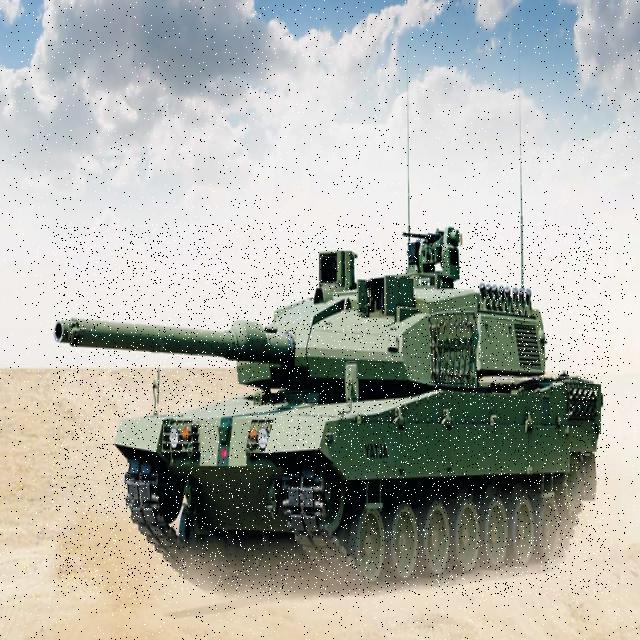MIL_MBT: (52, 223, 610, 597)
